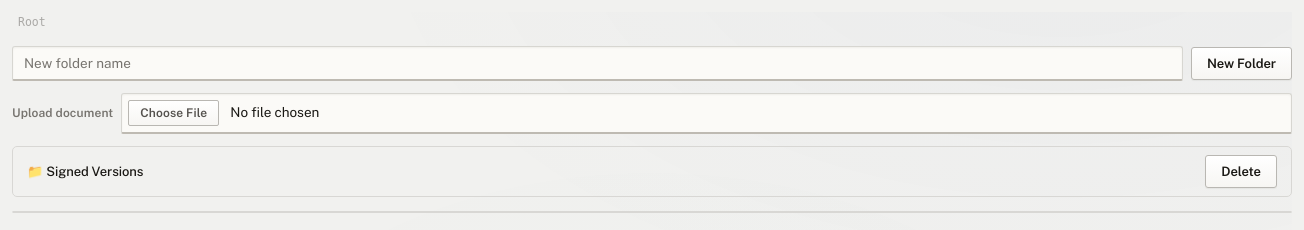
Test: DocumentBrowser › navigates into a folder and lists its contents
Click the button "📁 Signed Versions" at (85, 172), box [27, 164, 143, 179]
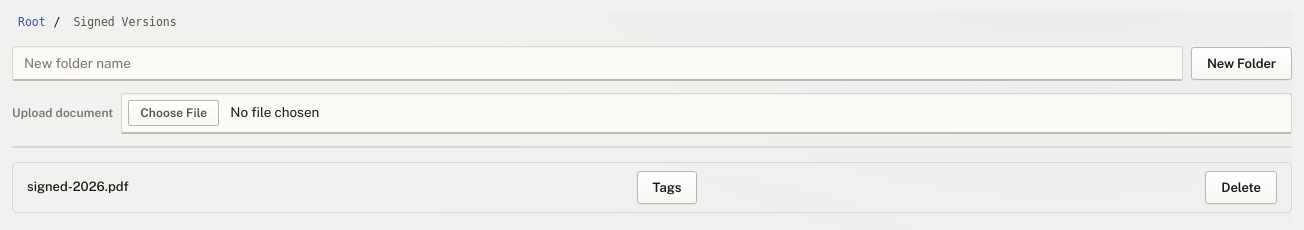
Expected: the button "Signed Versions" is shown, [67, 12, 183, 32]
Result: the link "signed-2026.pdf" is shown at [27, 177, 129, 198]
